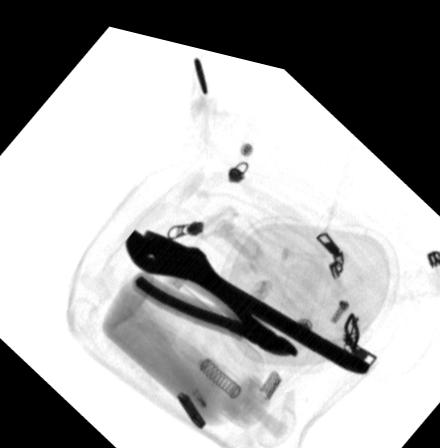Pliers: (130, 232, 297, 343)
Wrench: (123, 222, 370, 355)
